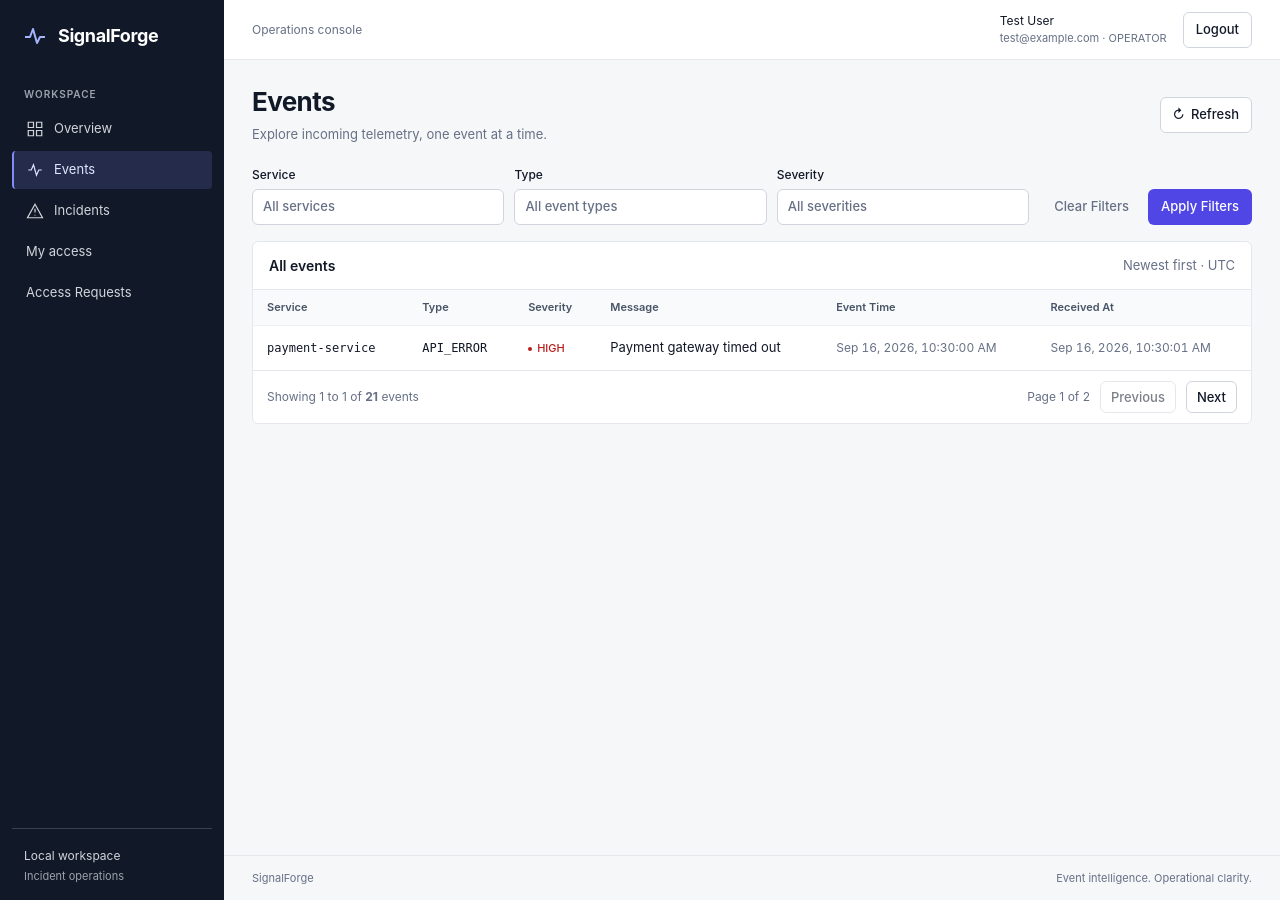
it: Events › requests the next backend page and resets pagination on filter apply
The image size is (1280, 900).
Check: the text "Page 1 of 2" is shown, box [1027,388,1090,406]
Click the button "Next": (1211, 397) [1186,381,1237,413]
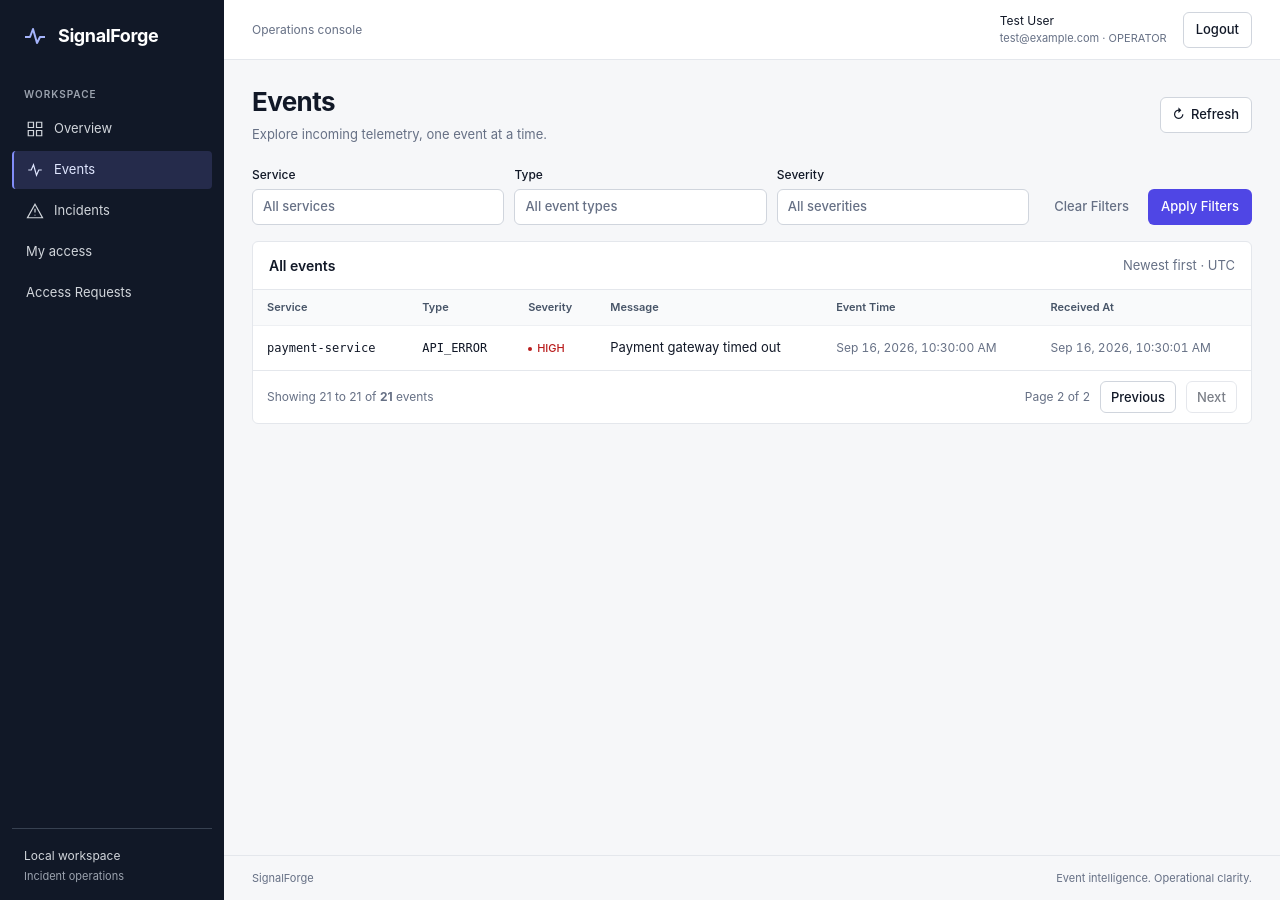
Check: the text "Page 2 of 2" is shown, box [1025,388,1090,406]
Check: the button "Next" is disabled, box [1186,381,1237,413]
In the field labelled "Service": (378, 207) [252,189,504,225], type "payment-service"
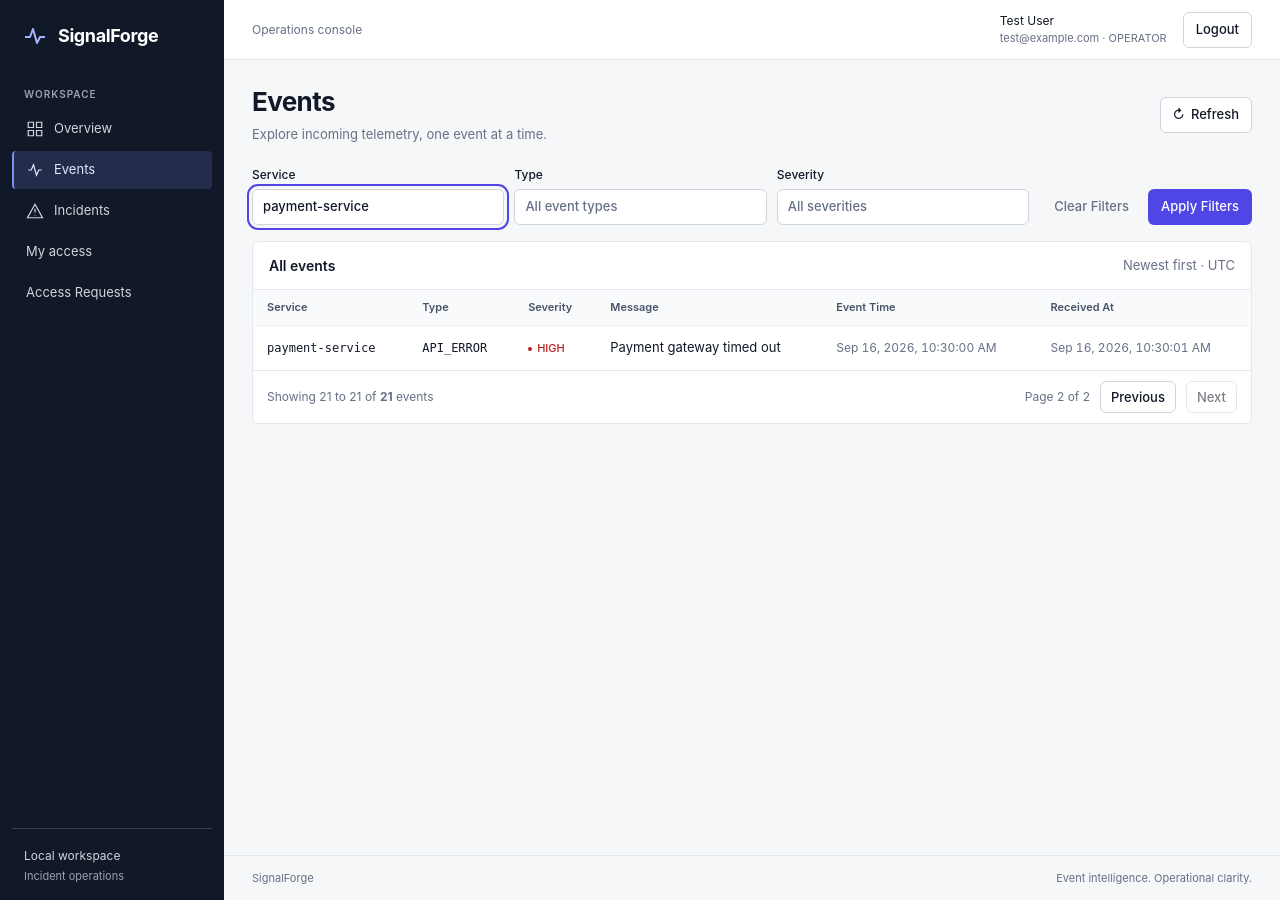
Click the button "Apply Filters": (1200, 207) [1148,189,1252,225]
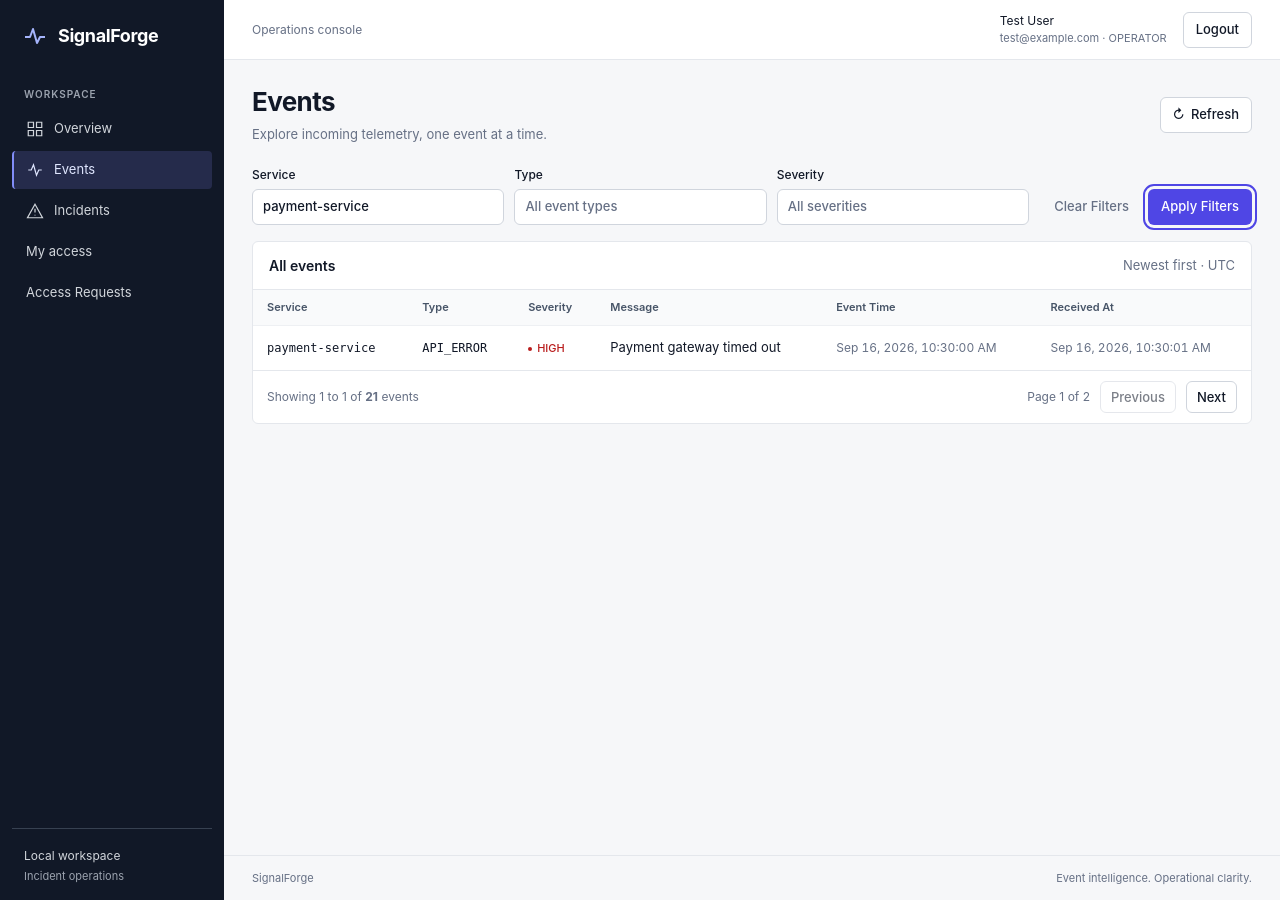
Check: the text "Page 1 of 2" is shown, box [1027,388,1090,406]
